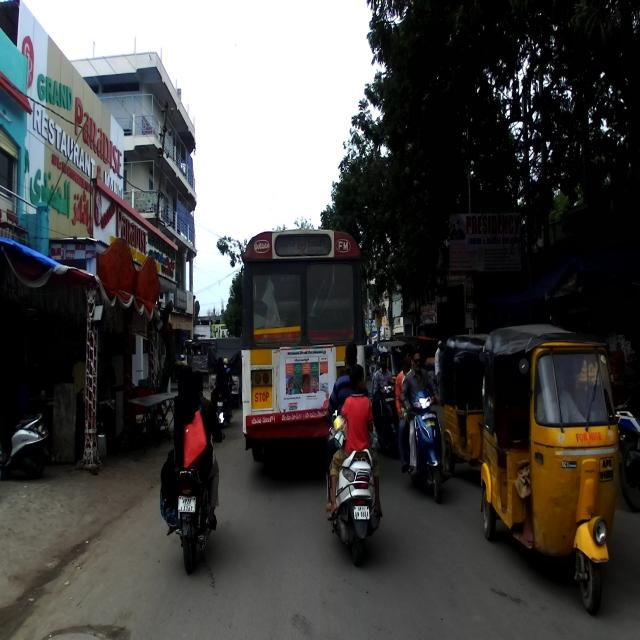autorickshaw: (480, 323, 620, 613), (440, 332, 489, 477)
bus: (240, 225, 367, 468)
motorcycle_Hero: (173, 410, 227, 573)
scooter: (323, 404, 383, 564), (398, 389, 444, 504), (0, 409, 51, 485), (371, 380, 399, 457)
